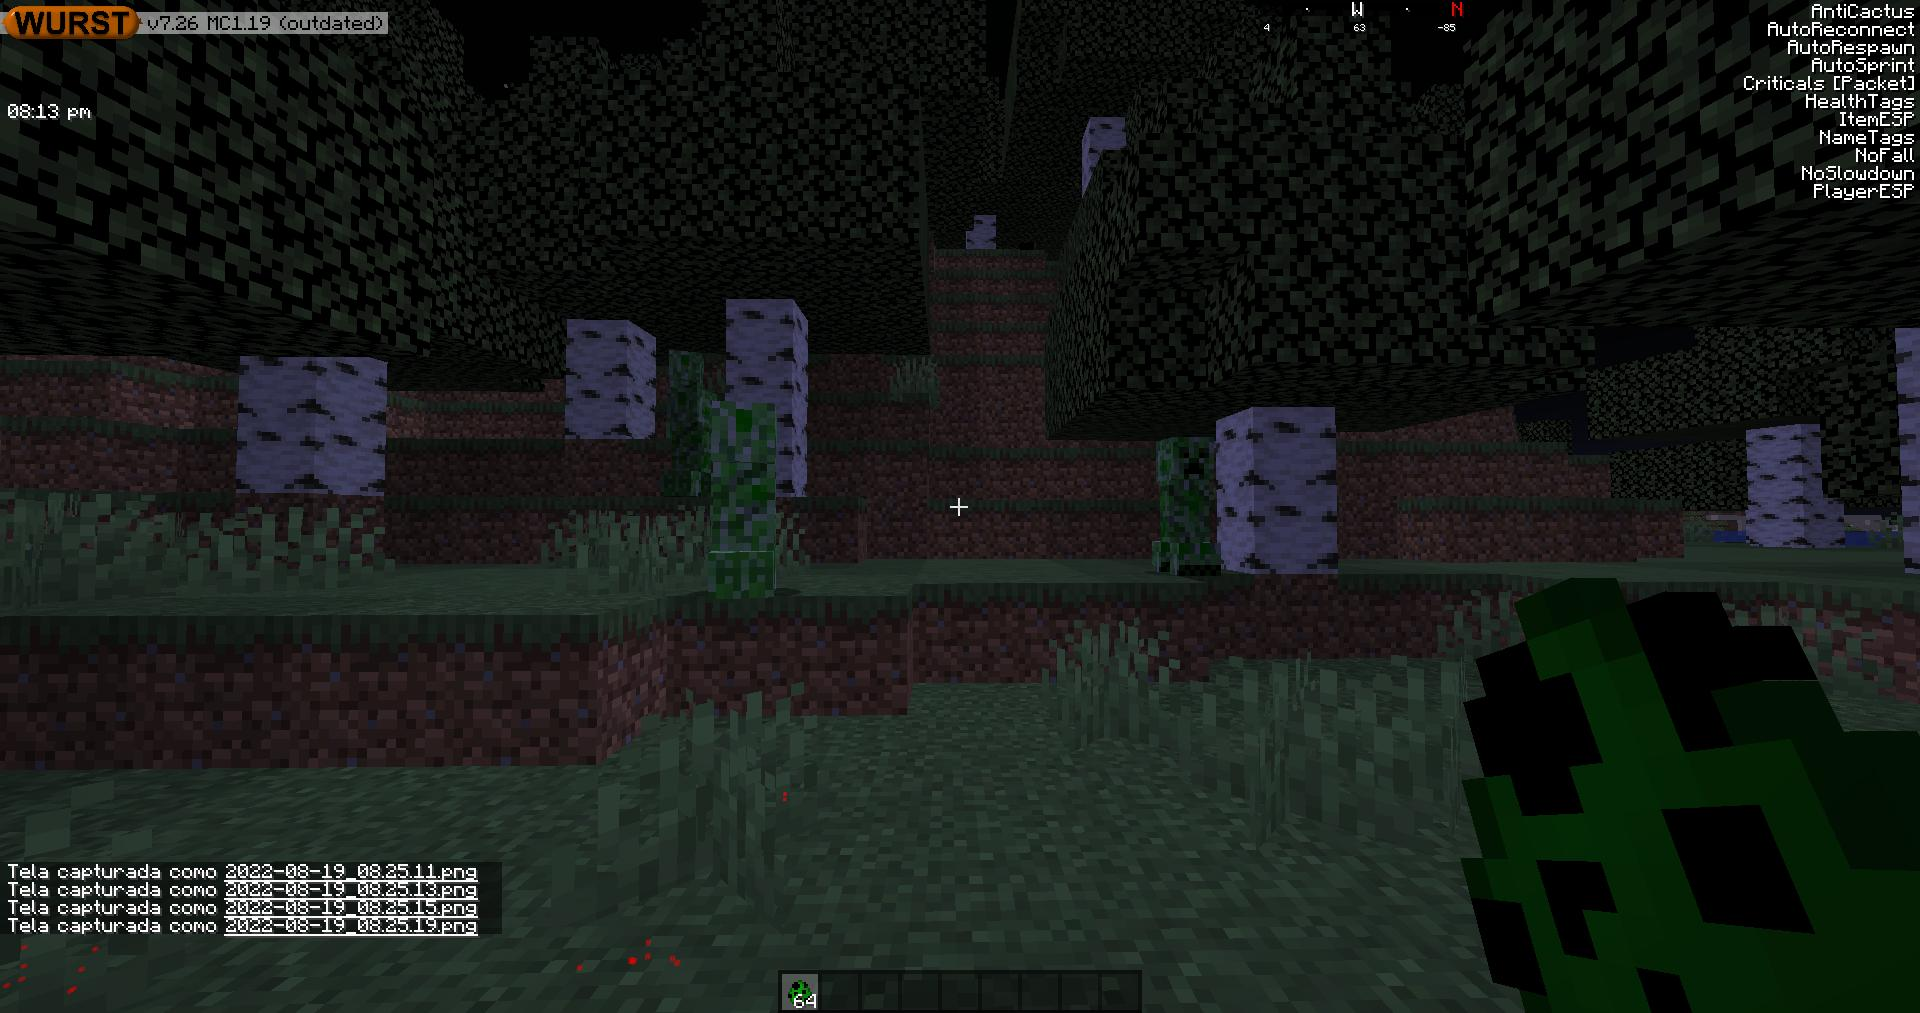creeper: (711, 402, 776, 598), (1147, 434, 1222, 580), (663, 361, 701, 493)
